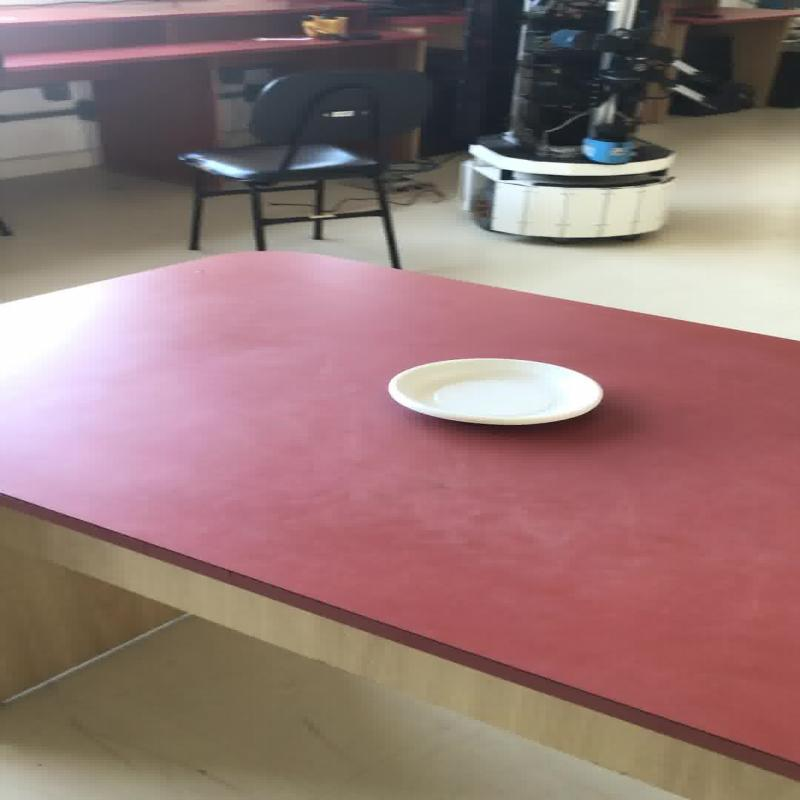plate: (386, 357, 602, 426)
